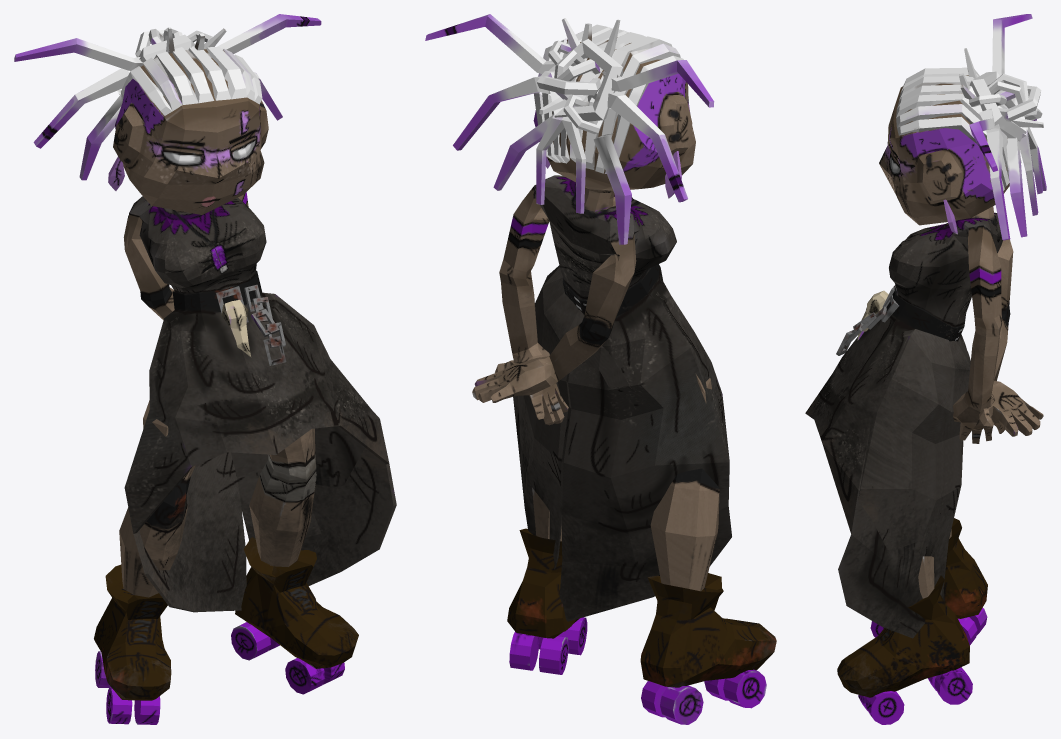
File: bruja_000038.obj
3 renders of one model, left to right at view 1: azimuth 30°, elevation 25°; view 2: azimuth 150°, elevation 25°; view 3: azimuth 270°, elevation 25°, orthographic. The views are drawn at different scales.
Visible parts, largest first — view 1: Bruja_Plane.001; view 2: Bruja_Plane.001; view 3: Bruja_Plane.001.
Boxes of the visible parts, bbox=[...] form: Bruja_Plane.001: bbox=[14, 14, 396, 724]; Bruja_Plane.001: bbox=[425, 14, 776, 724]; Bruja_Plane.001: bbox=[805, 14, 1046, 724].
Bounding box in the file's own units: 7.42 × 16.02 × 5.63.
